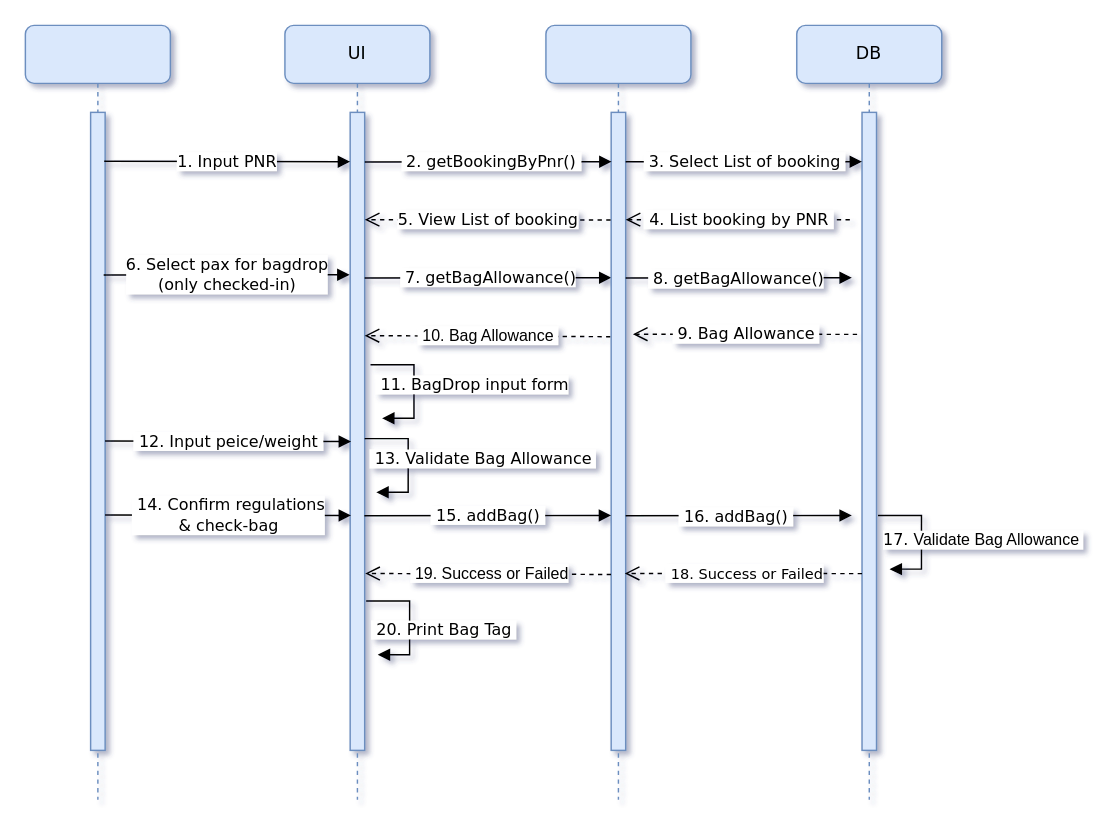
Some shapes in this 1118 by 834 pixel diagram are drawn without their labels. Each missing label, with the box of its shape:
Controller: (544, 24, 691, 800)
Passenger: (24, 24, 170, 800)
